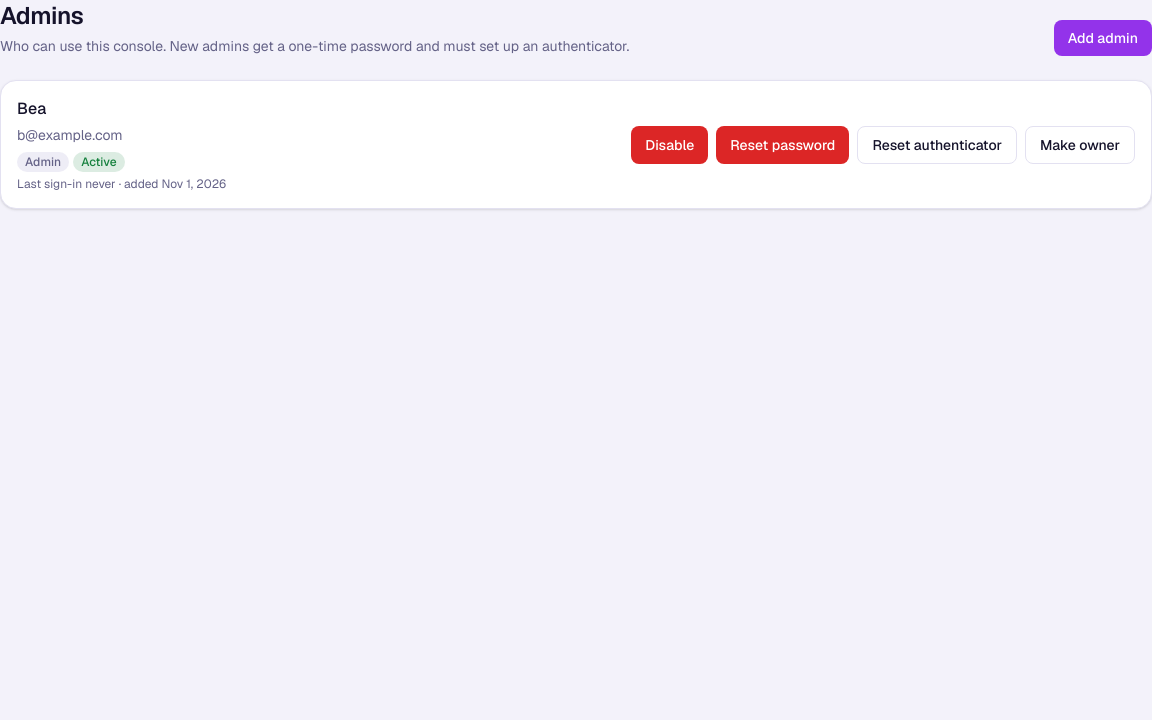
it: Admins page › resetting a password needs a reason and shows the new one-time password
The width and height of the screenshot is (1152, 720).
Click the button "Reset password" at (783, 144), box [716,126,849,164]
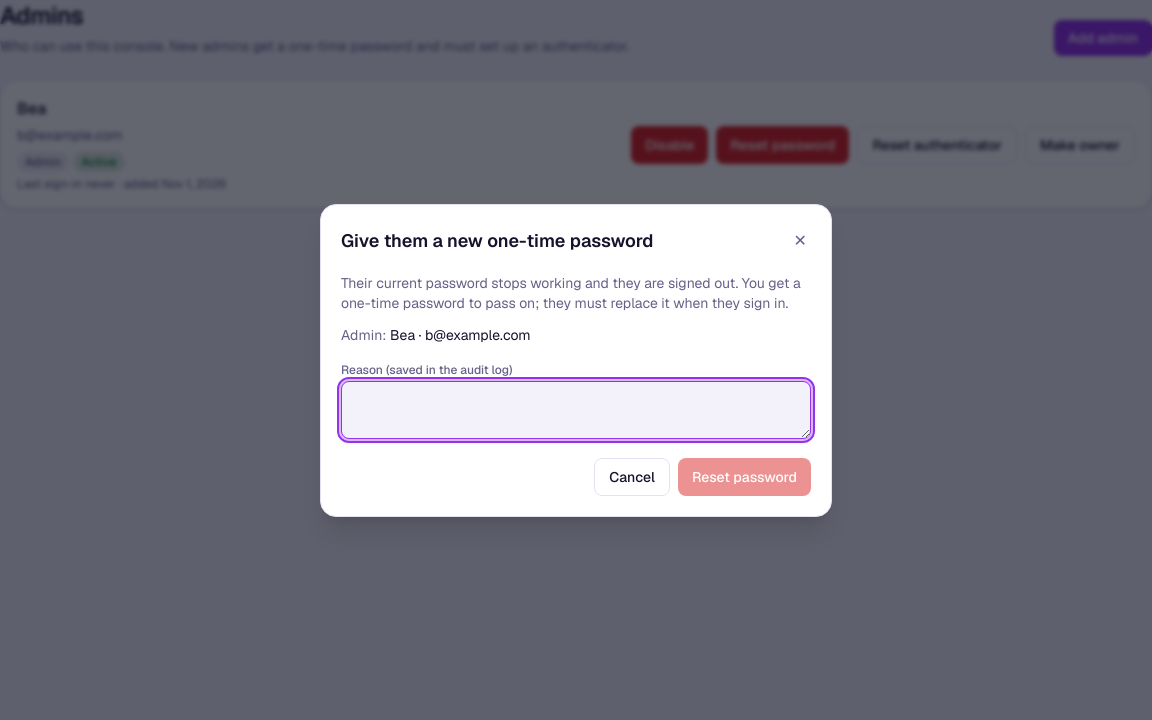
expect the button "Reset password" is disabled: met, box [678,458,811,496]
Type "forgot it" into the text box labelled "Reason (saved in the audit log)" at (576, 410), box [341,380,811,438]
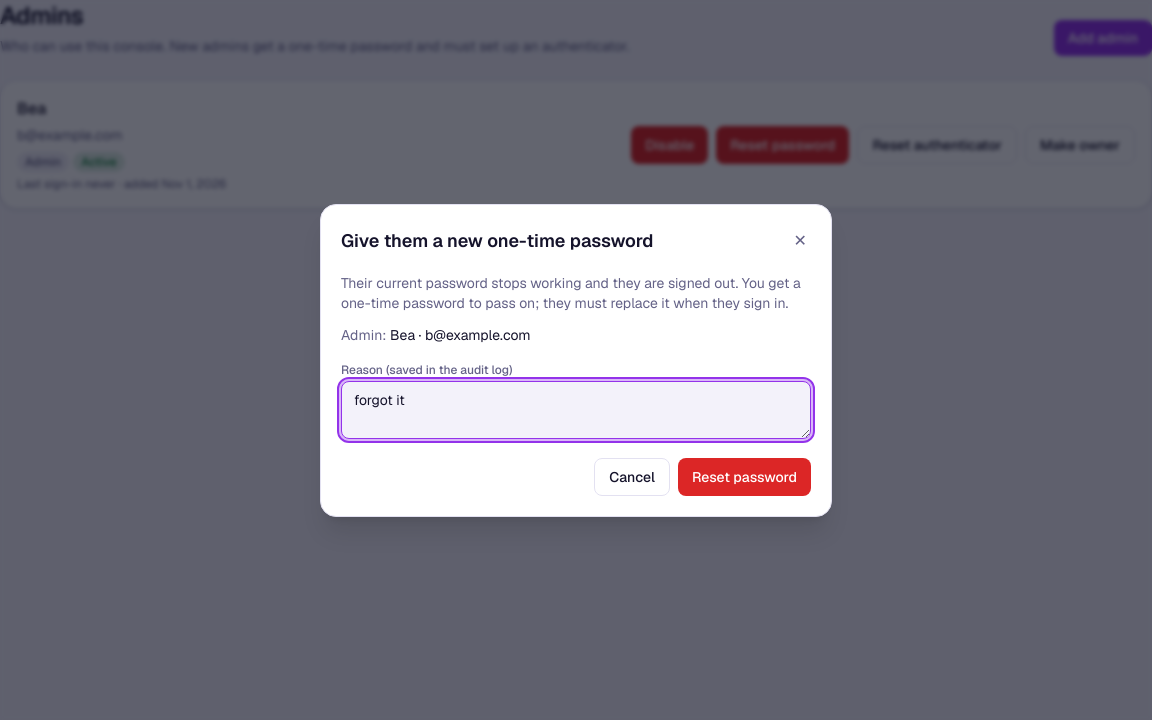
Click the button "Reset password" at (744, 476), box [678,458,811,496]
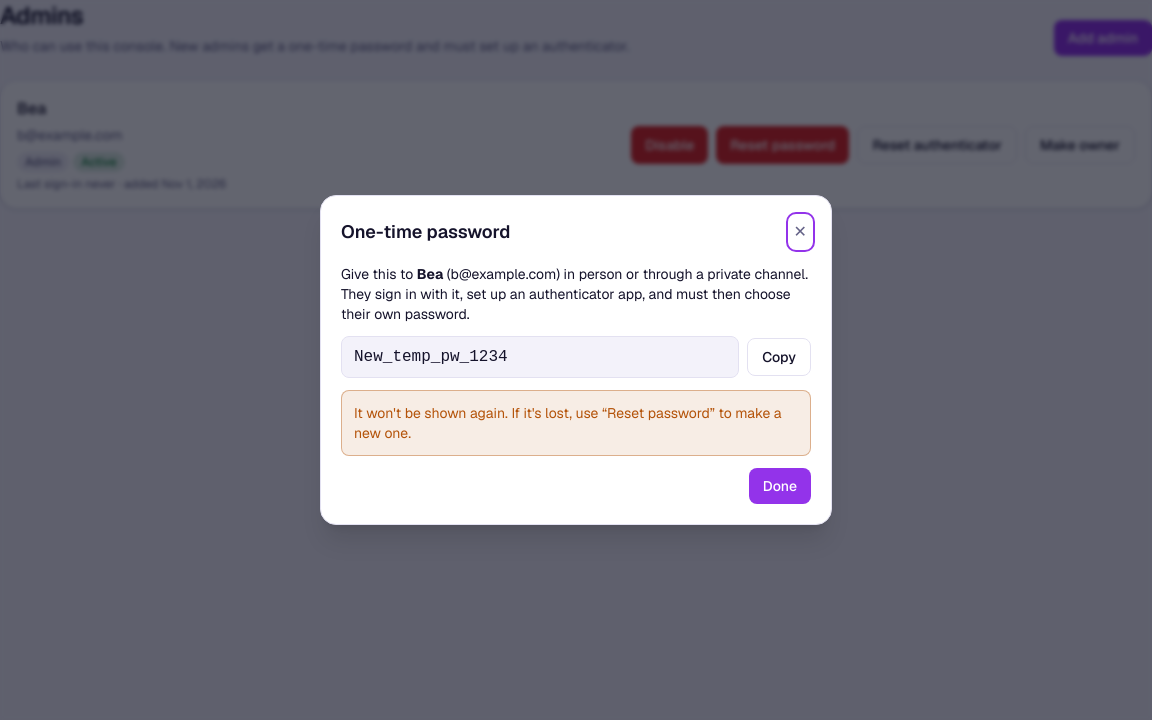
expect the text with test id "one-time-password" reads "New_temp_pw_1234": met, box [354,348,508,366]
